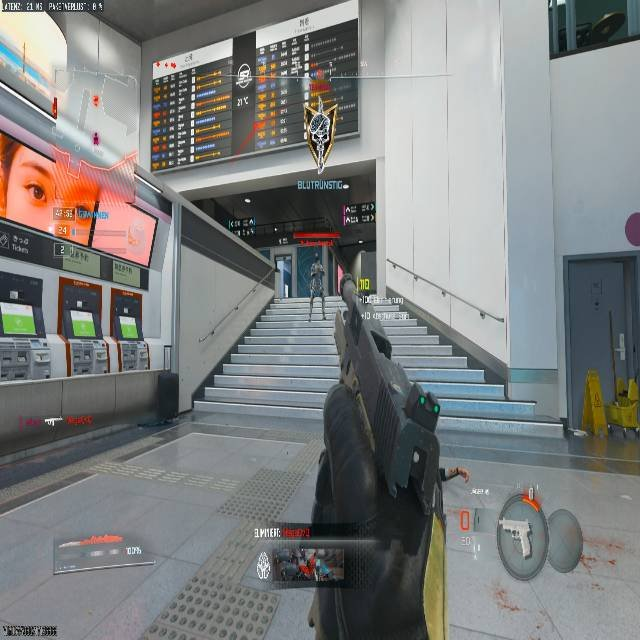player: (303, 84, 340, 167), (263, 94, 287, 141)
